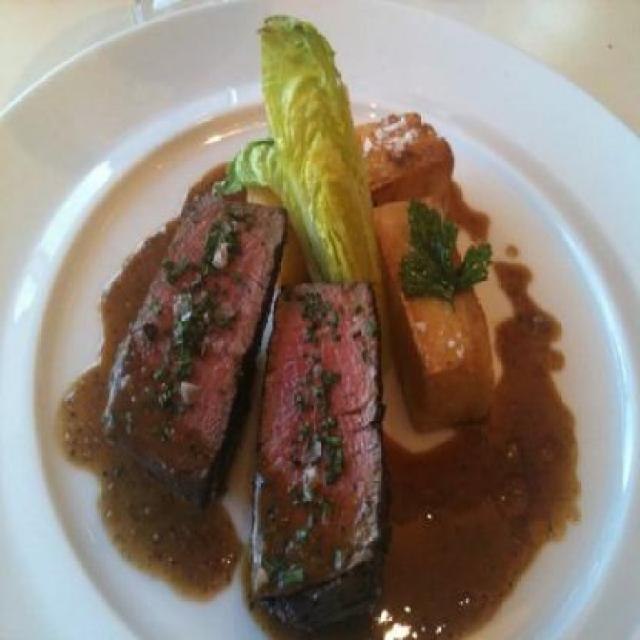Steak: (107, 187, 284, 490), (263, 287, 394, 615)
